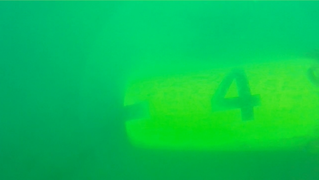4: (213, 67, 260, 120)
pipe: (123, 58, 319, 152)
